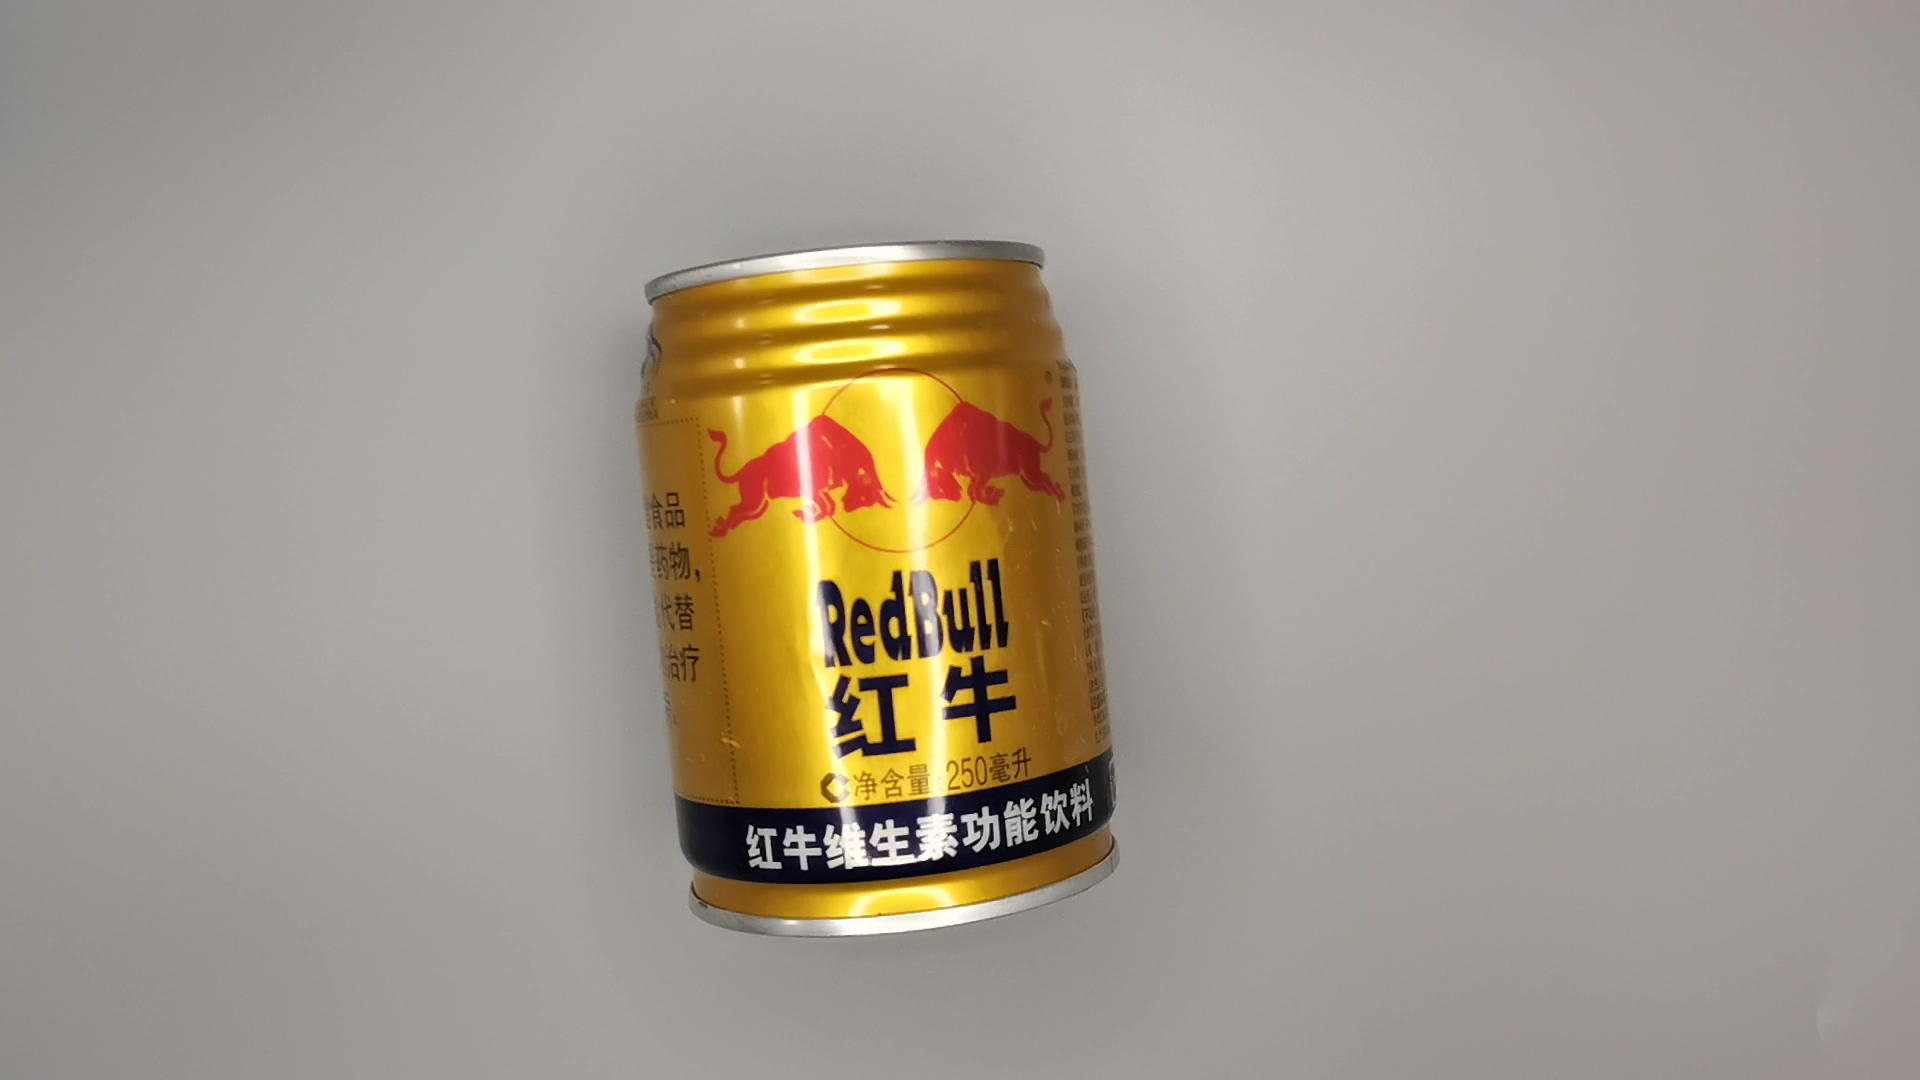can: (618, 248, 1137, 953)
